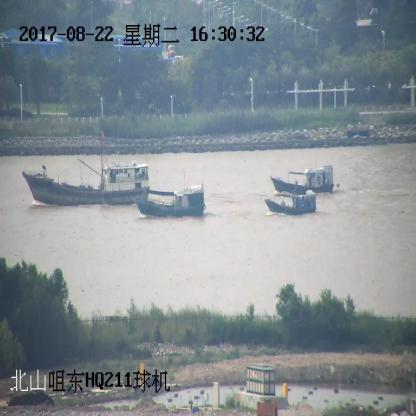Fishing Boat: (23, 130, 150, 206), (136, 181, 206, 217), (271, 165, 335, 196), (266, 190, 316, 216)
